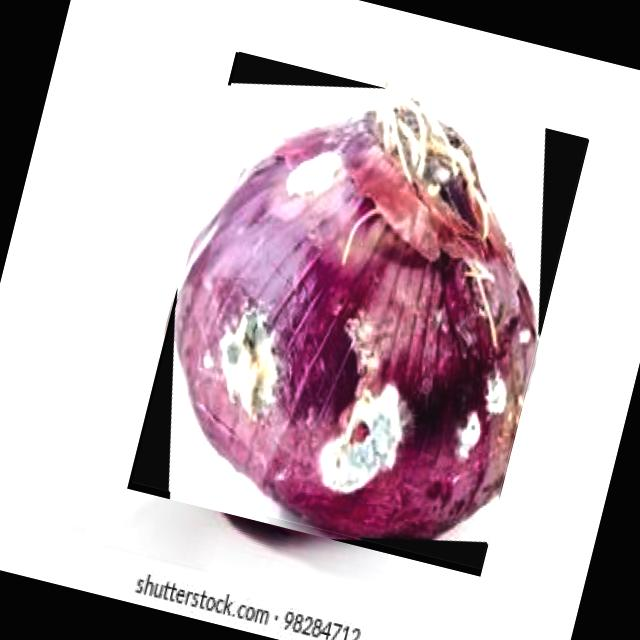rotten: (176, 91, 539, 539)
